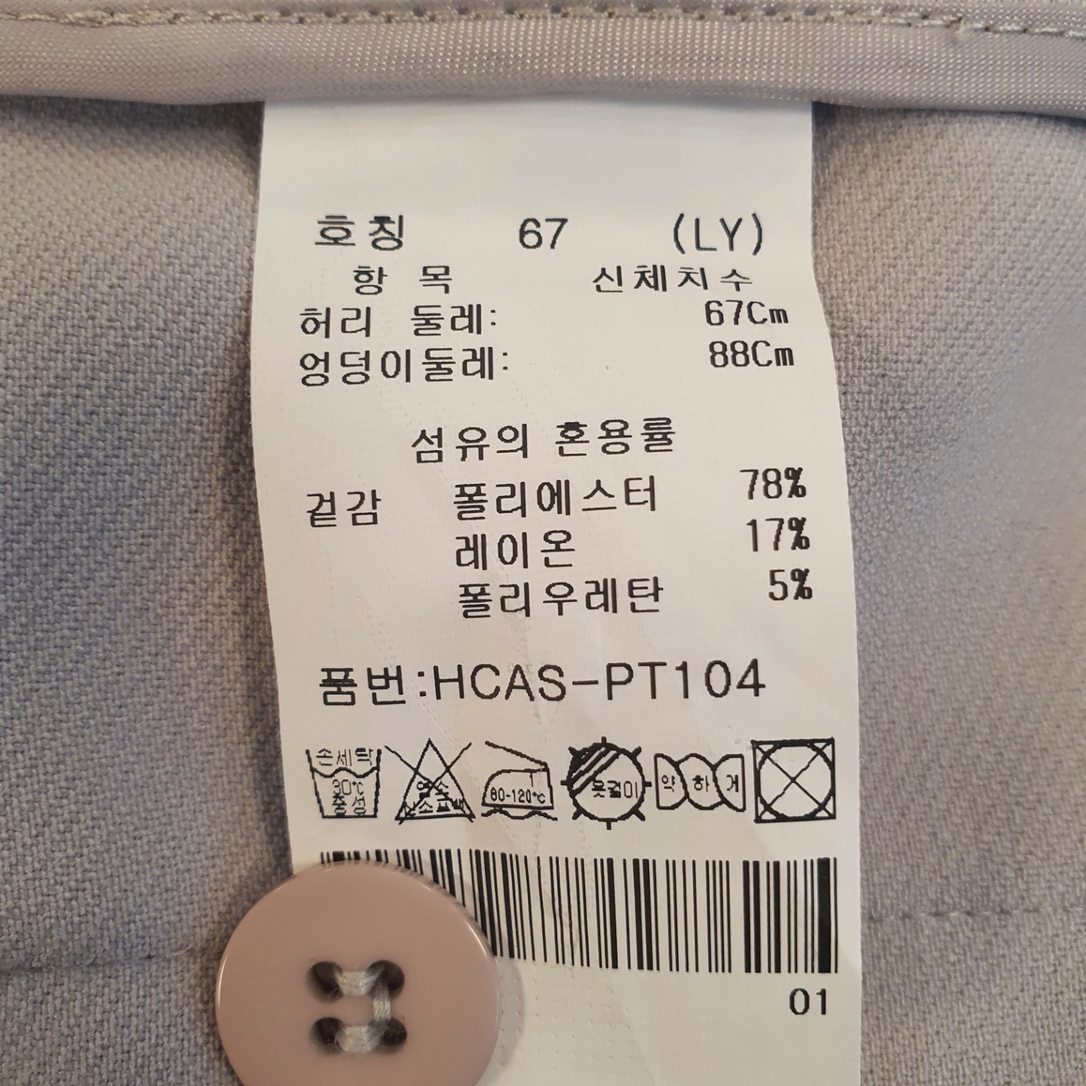KR_gentle_wring: (650, 747, 750, 817)
KR_hand_wash_30_neutral: (300, 737, 387, 824)
KR_hang_dry_in_shade: (559, 733, 650, 833)
KR_iron_low_temp_with_cloth: (475, 733, 559, 824)
KR_no_bleach: (383, 738, 478, 821)
KR_no_tumble_dry: (748, 730, 841, 826)
